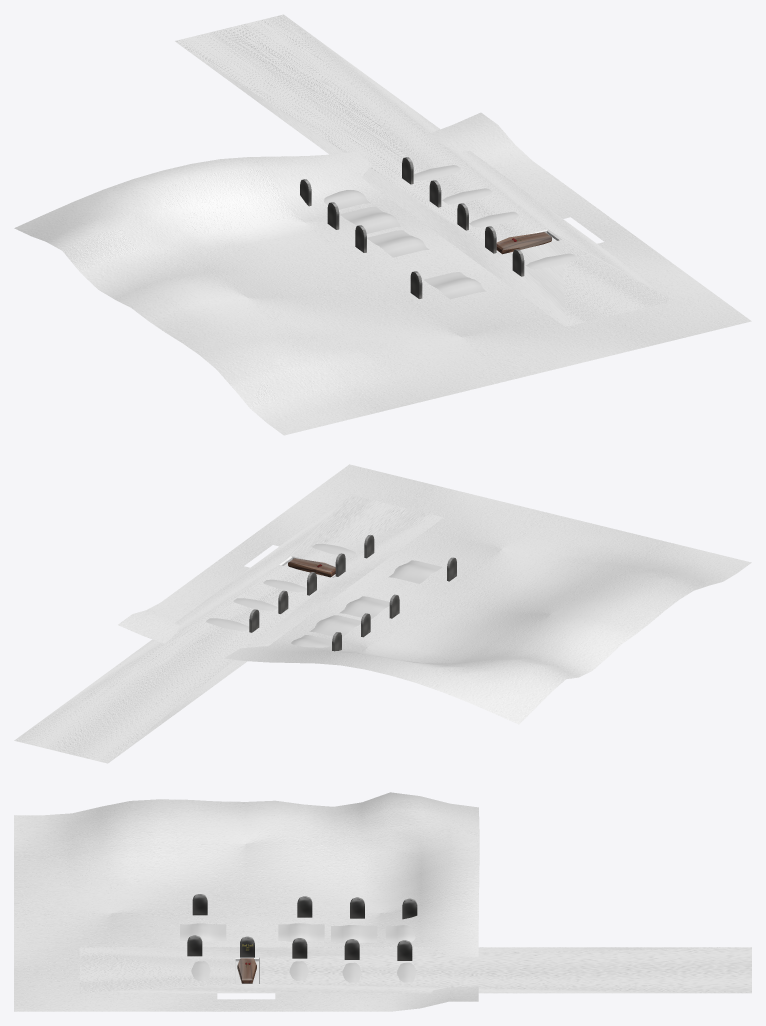
File: dEADscene.fbx
3 views of the same model, one above another, from view 1: azimuth 30°, elevation 25°; view 2: azimuth 150°, elevation 25°; view 3: azimuth 270°, elevation 25° (orthographic). The views are drawn at different scales.
Parts seen in each view (by area): view 1: ground, graves, tombstones, COUGHIN; view 2: ground, graves, tombstones, COUGHIN; view 3: ground, graves, tombstones, COUGHIN.
Part boxes in pixels (box(x1,y1,x2,y2)): ground: box(14, 14, 751, 435); graves: box(324, 165, 576, 299); tombstones: box(300, 157, 524, 298); COUGHIN: box(496, 232, 551, 254); ground: box(14, 464, 751, 763); graves: box(206, 543, 442, 647); tombstones: box(249, 535, 456, 651); COUGHIN: box(288, 558, 335, 577); ground: box(14, 792, 751, 1011); graves: box(180, 923, 416, 982); tombstones: box(187, 894, 417, 960); COUGHIN: box(237, 958, 256, 983).
Bounding box in the file's own units: 20.22 × 1.47 × 31.92.
